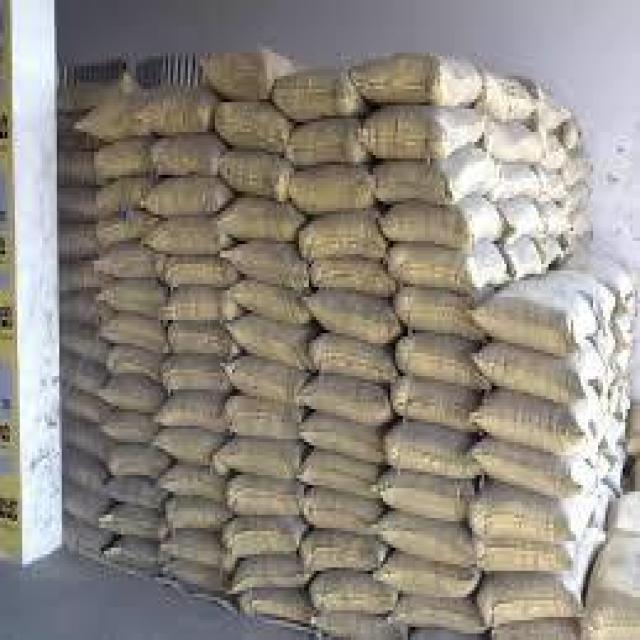gunny_bag: (488, 530, 597, 625), (476, 274, 598, 349), (380, 146, 492, 207), (381, 507, 484, 570), (484, 396, 587, 458), (364, 50, 478, 103), (479, 344, 577, 405), (393, 241, 505, 292), (386, 202, 499, 252), (390, 424, 473, 484), (480, 493, 575, 543), (397, 340, 488, 385), (298, 457, 381, 505), (302, 380, 390, 425), (220, 149, 290, 205), (313, 290, 388, 342), (234, 276, 310, 326), (230, 356, 306, 405), (222, 436, 300, 483), (372, 109, 449, 156), (216, 101, 287, 151), (304, 533, 384, 576), (307, 215, 380, 262), (294, 120, 362, 170), (144, 177, 224, 218), (319, 337, 390, 382), (229, 516, 306, 557), (225, 205, 298, 247), (308, 420, 382, 461), (406, 295, 477, 337), (298, 168, 367, 207), (399, 603, 480, 634), (93, 139, 146, 186), (278, 73, 347, 109), (151, 220, 220, 256), (157, 427, 213, 470), (150, 92, 208, 132), (165, 360, 229, 396), (108, 283, 167, 322), (109, 344, 162, 387), (499, 161, 548, 207), (485, 122, 546, 158), (175, 258, 231, 288), (166, 503, 225, 531), (119, 483, 163, 510), (111, 416, 157, 441)
